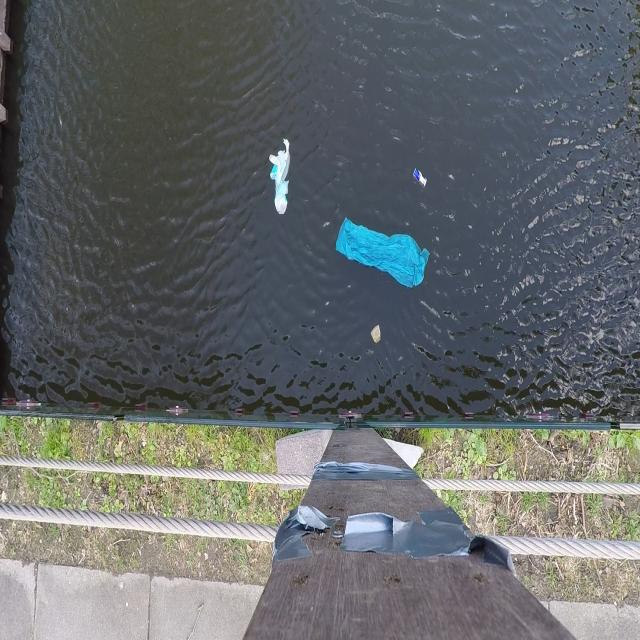Non plastique: (366, 323, 387, 352), (410, 164, 431, 191)
Sac plastique: (330, 212, 434, 294), (263, 133, 296, 225)
